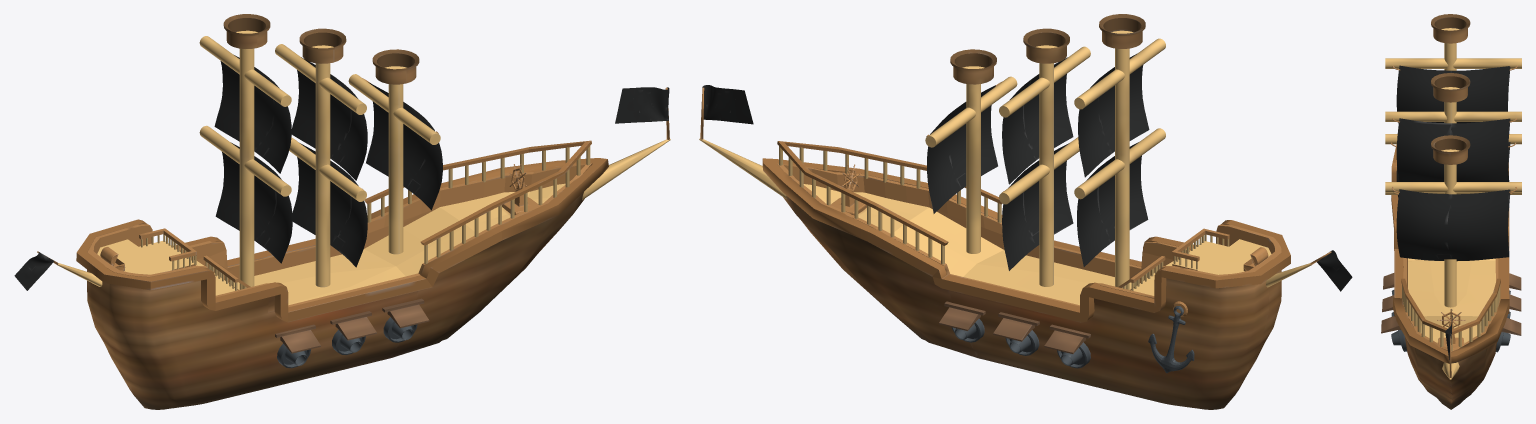
File: pirate_ship (1).fbx
The picture shows the model from 3 angles, left to right: view 1: azimuth 30°, elevation 25°; view 2: azimuth 150°, elevation 25°; view 3: azimuth 270°, elevation 25°; orthographic projection. The views are drawn at different scales.
Parts seen in each view (by area): view 1: Boat; view 2: Boat; view 3: Boat.
Boxes of the visible parts, box(x1,y1,x2,y2) form: Boat: box(14, 14, 670, 409); Boat: box(699, 14, 1352, 409); Boat: box(1381, 14, 1521, 409).
Bounding box in the file's own units: 2251 × 1205 × 499.
1 material, 1 textured.
